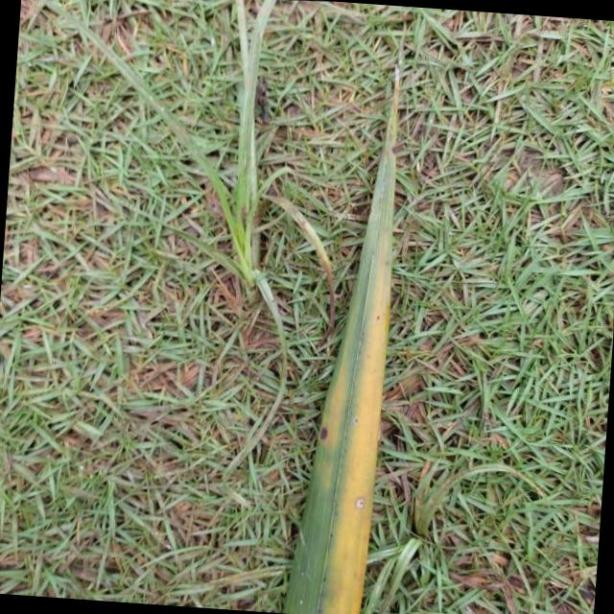Megnesium: (280, 64, 406, 614)
